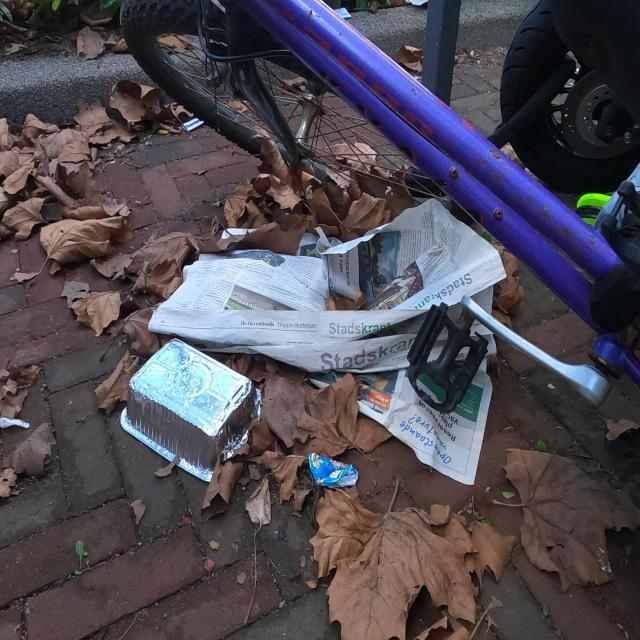Can-Metal: (120, 336, 263, 484)
Plastic: (308, 452, 359, 489), (180, 116, 204, 133)
